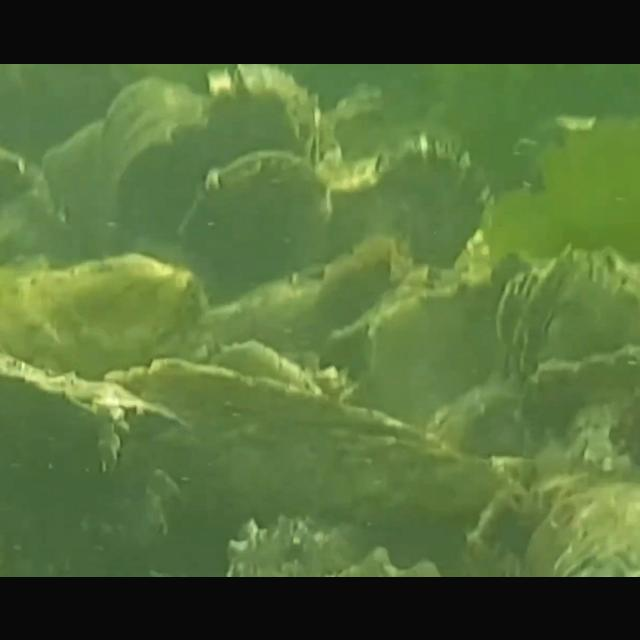Oyster-Closed: (99, 350, 453, 504), (421, 336, 640, 460), (0, 244, 198, 370), (179, 144, 331, 298), (0, 346, 186, 464), (358, 274, 498, 422), (492, 237, 640, 377), (362, 124, 484, 266), (221, 508, 441, 576), (516, 472, 640, 576)
